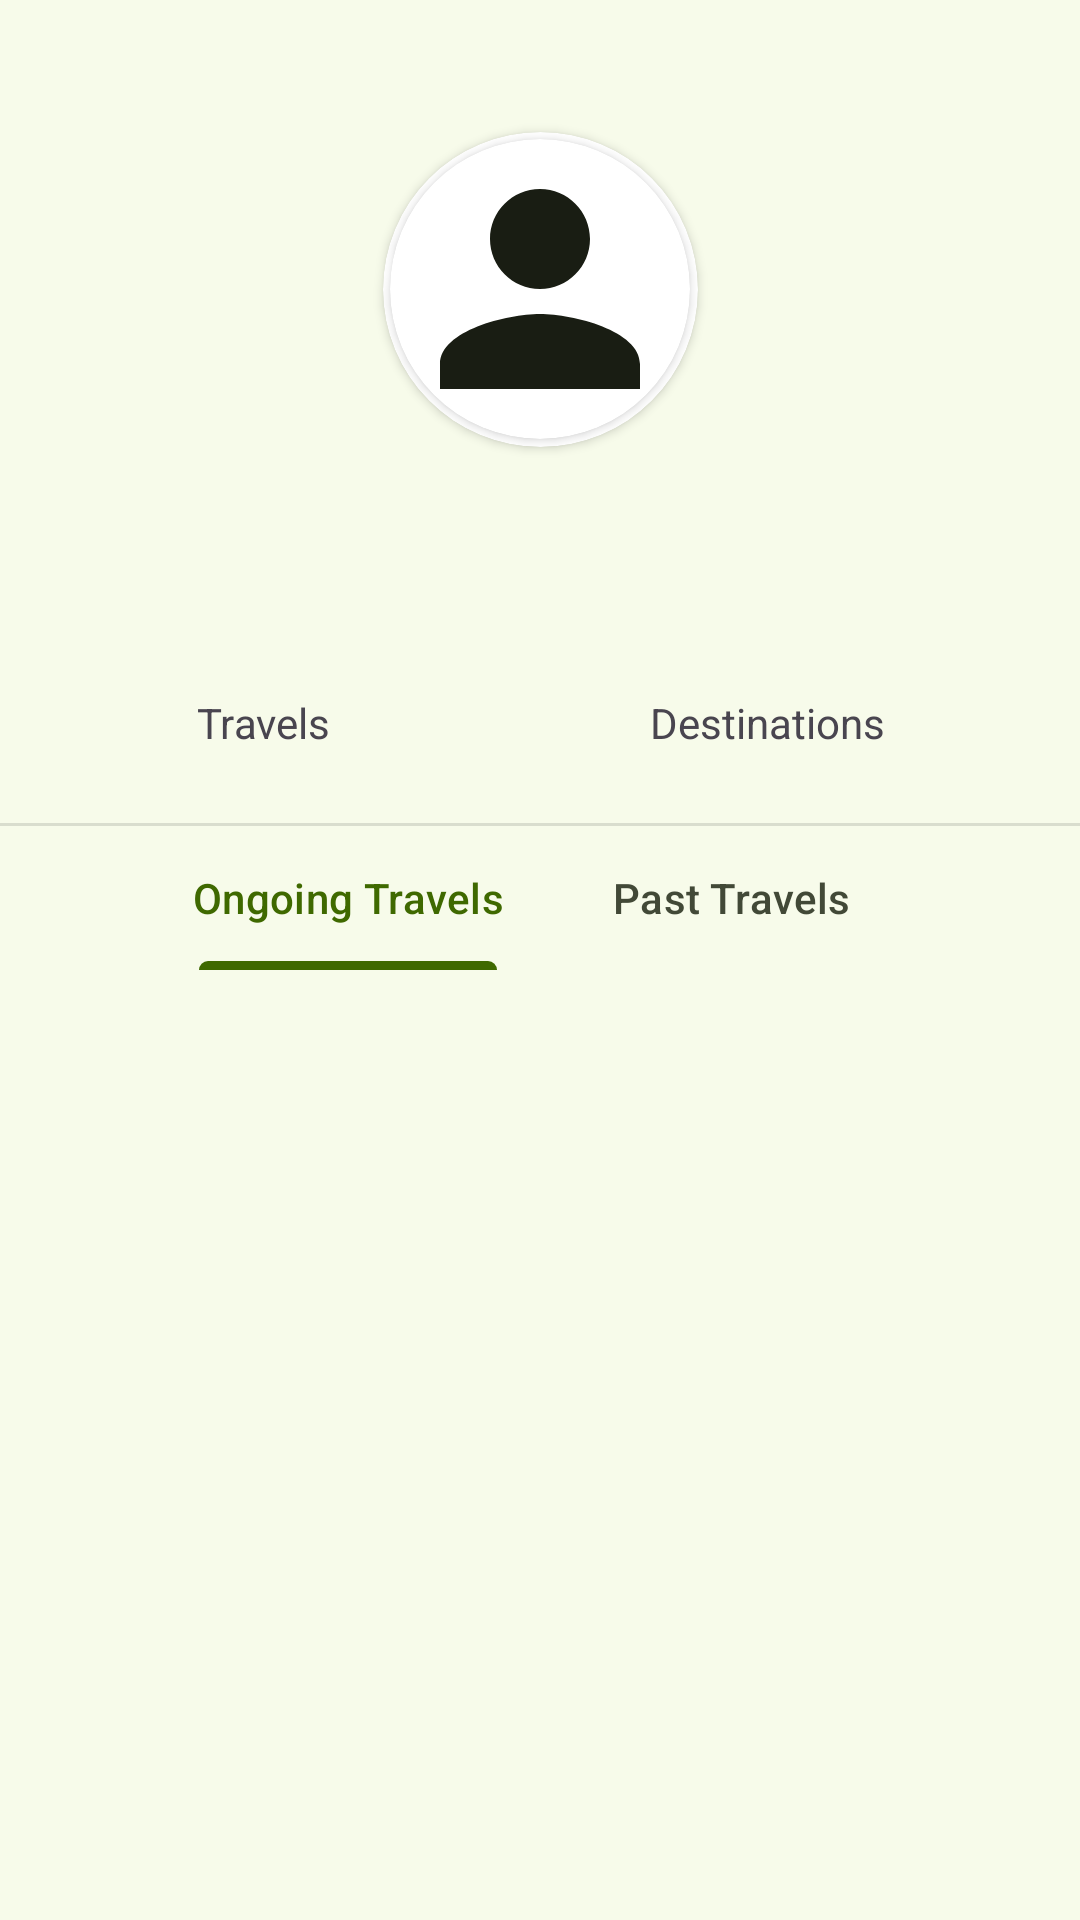

Named icons in this screenshot (1080 x 1920) and their centers, (x,y):
person: (540,289)
